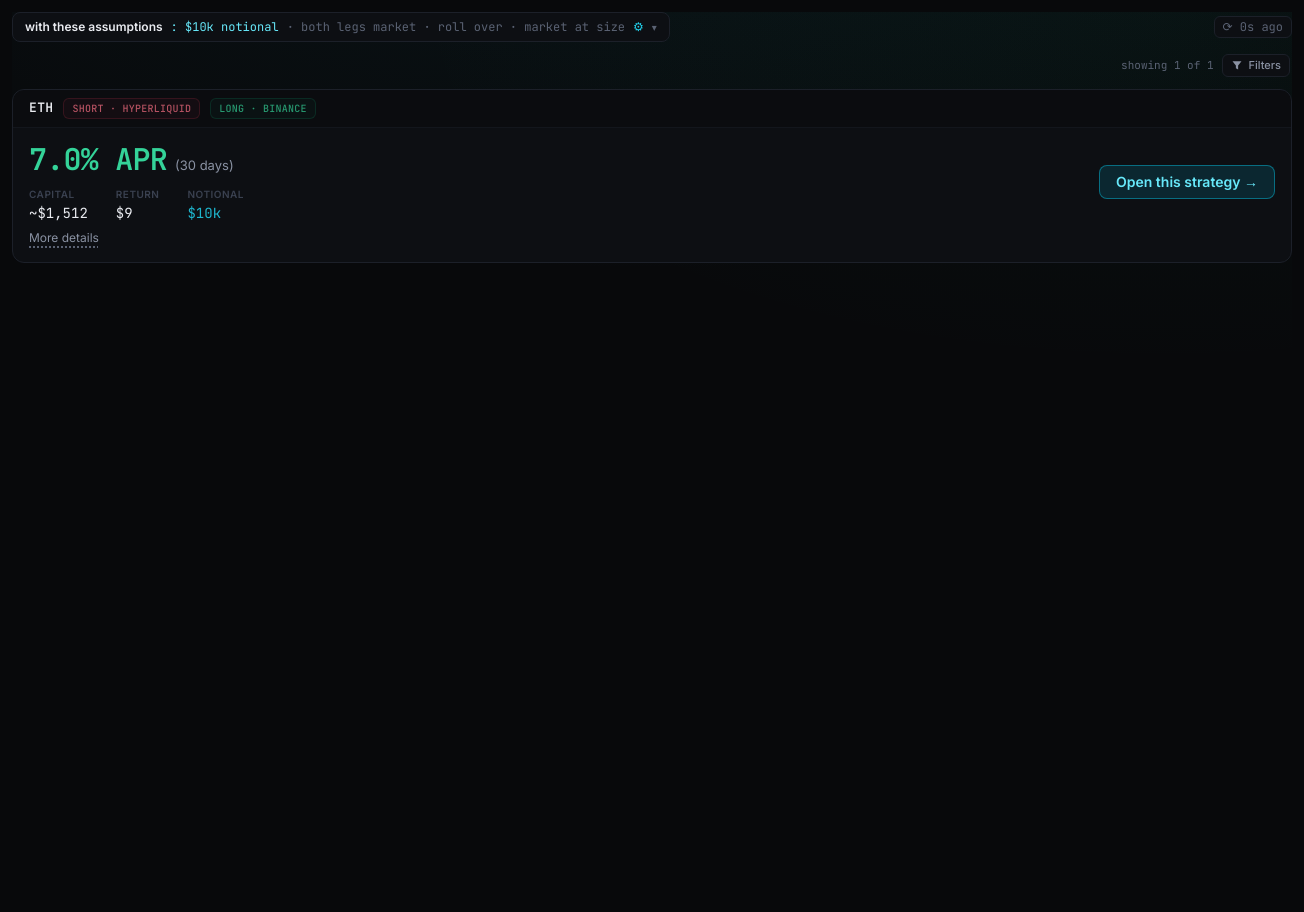
Test case: OpportunitiesPanel — capital basis › builds the capital waterfall per leg with the leverage each perp was sized at
Click the button "More details" at point(64, 238), box [29,230,99,246]
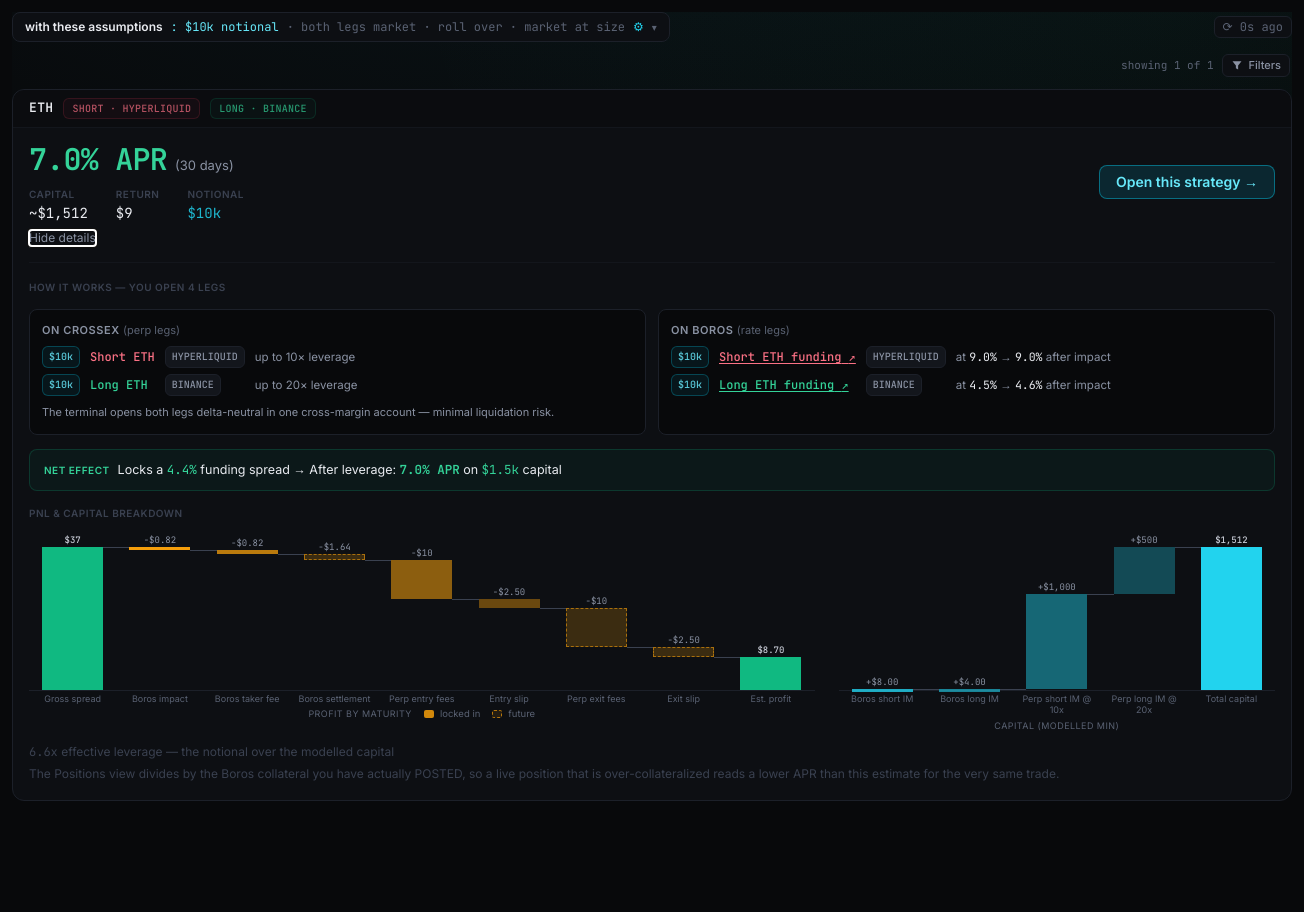
Expected: the text "Perp short IM @ 10x" is shown, [1022,693,1091,716]
Expected: the text "Perp long IM @ 20x" is shown, [1111,693,1177,716]
Expected: the text "+$8.00" is shown, [866,676,898,688]
